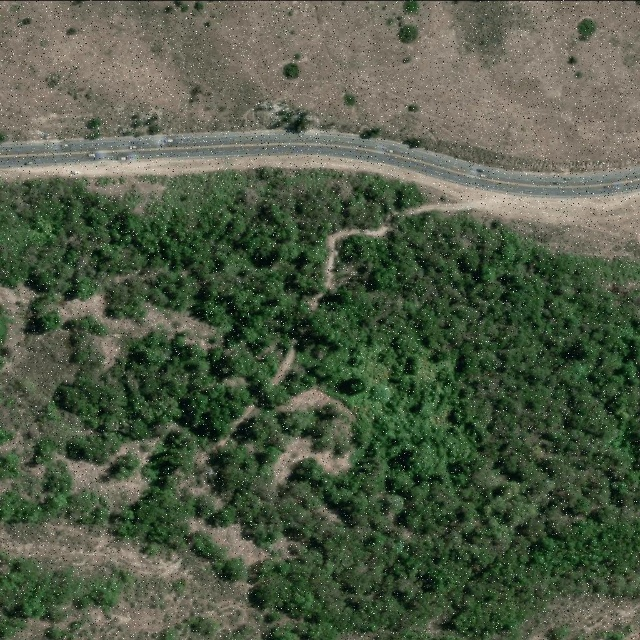vegetation: (0, 167, 469, 582), (203, 210, 640, 640), (0, 543, 135, 640)
